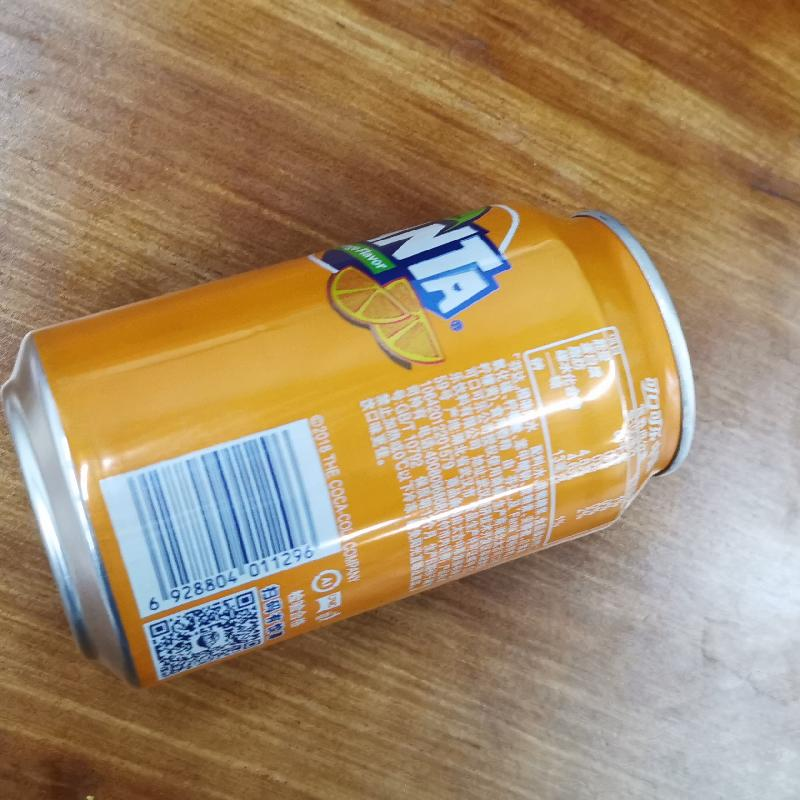cans: (3, 205, 700, 685)
